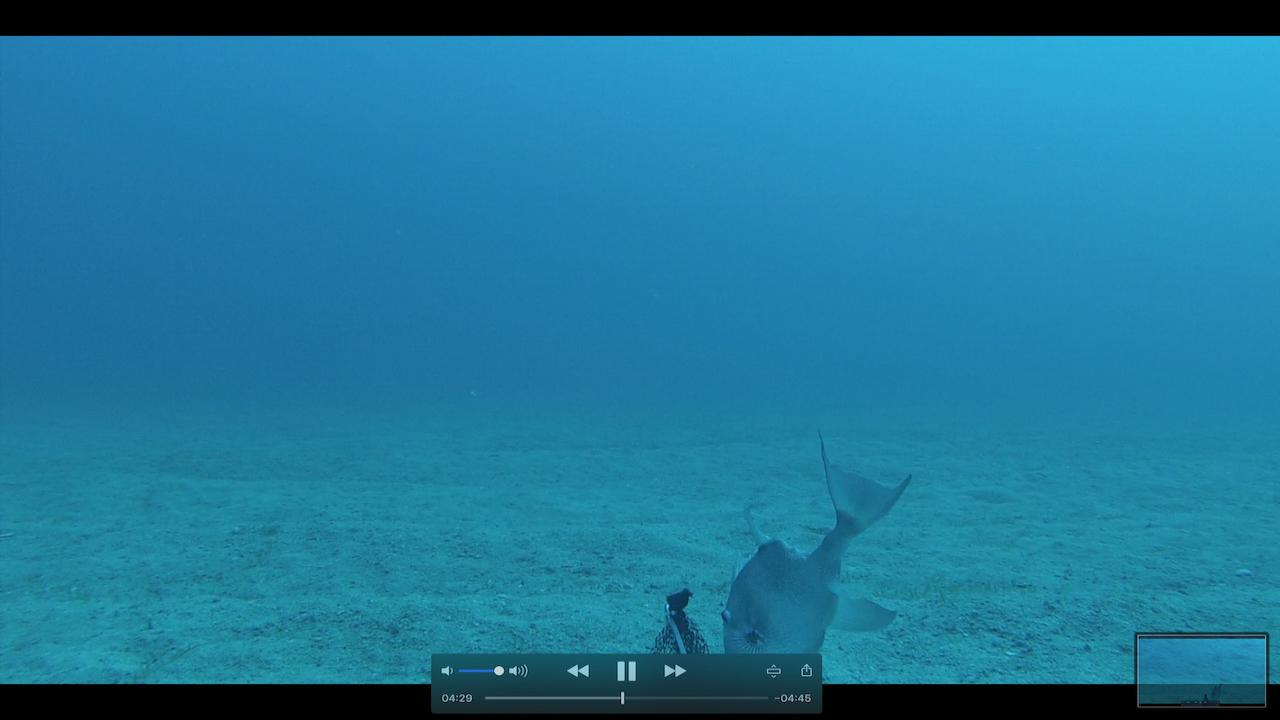balistes: (716, 417, 914, 652)
